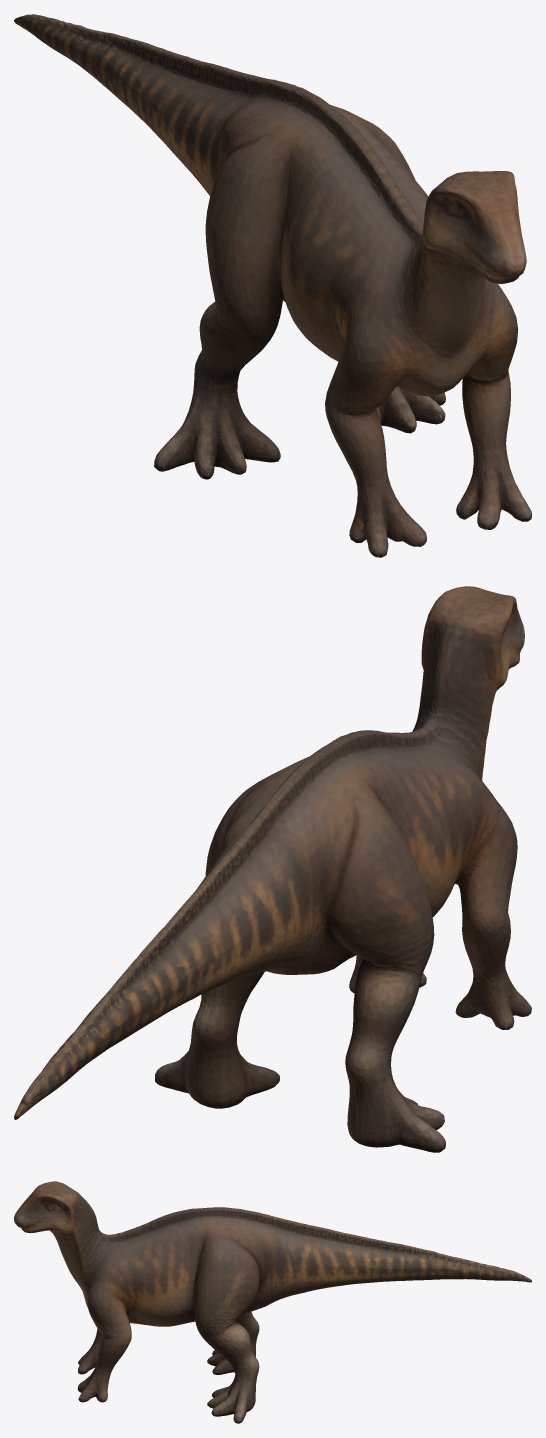
Rendered from model-cdbb111ebc04.glb.
3 renders of one model, top to bottom at view 1: azimuth 30°, elevation 25°; view 2: azimuth 150°, elevation 25°; view 3: azimuth 270°, elevation 25°, orthographic. The views are drawn at different scales.
Visible parts, largest first — view 1: world; view 2: world; view 3: world.
Part boxes in pixels (x1,y1,x2,y2): world: (14, 14, 531, 557); world: (14, 586, 531, 1152); world: (14, 1181, 531, 1423).
Bounding box in the file's own units: 0.3313 × 0.4278 × 0.9966.
Materials: 1 (1 with a texture image).
